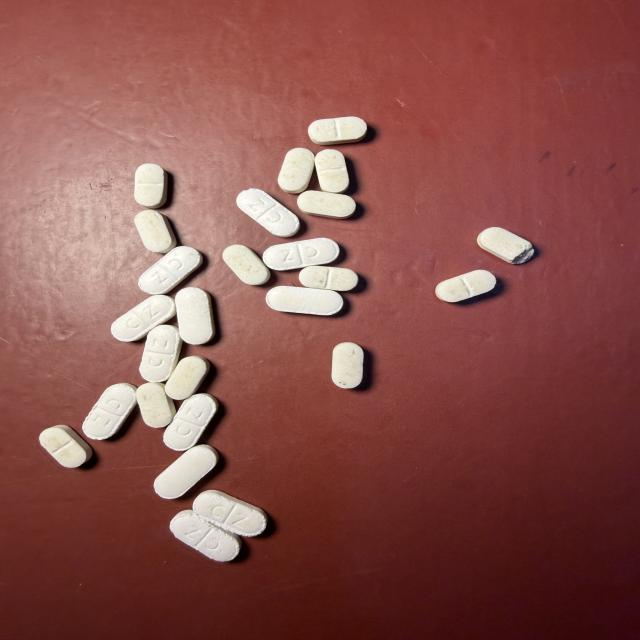pill: (170, 510, 241, 561), (193, 490, 267, 536), (154, 445, 218, 498), (164, 394, 218, 450), (111, 295, 176, 341), (237, 189, 299, 237), (83, 383, 136, 439), (139, 247, 202, 294), (263, 238, 339, 270), (140, 325, 182, 382), (40, 425, 92, 468), (266, 286, 343, 315), (176, 288, 214, 344), (478, 227, 534, 264), (436, 270, 496, 302), (165, 356, 209, 399), (223, 245, 270, 285), (135, 210, 176, 253), (137, 383, 175, 427), (308, 117, 366, 145), (278, 148, 314, 193), (298, 191, 355, 218), (134, 164, 167, 208), (315, 150, 348, 193), (299, 266, 358, 290), (332, 343, 363, 388)
